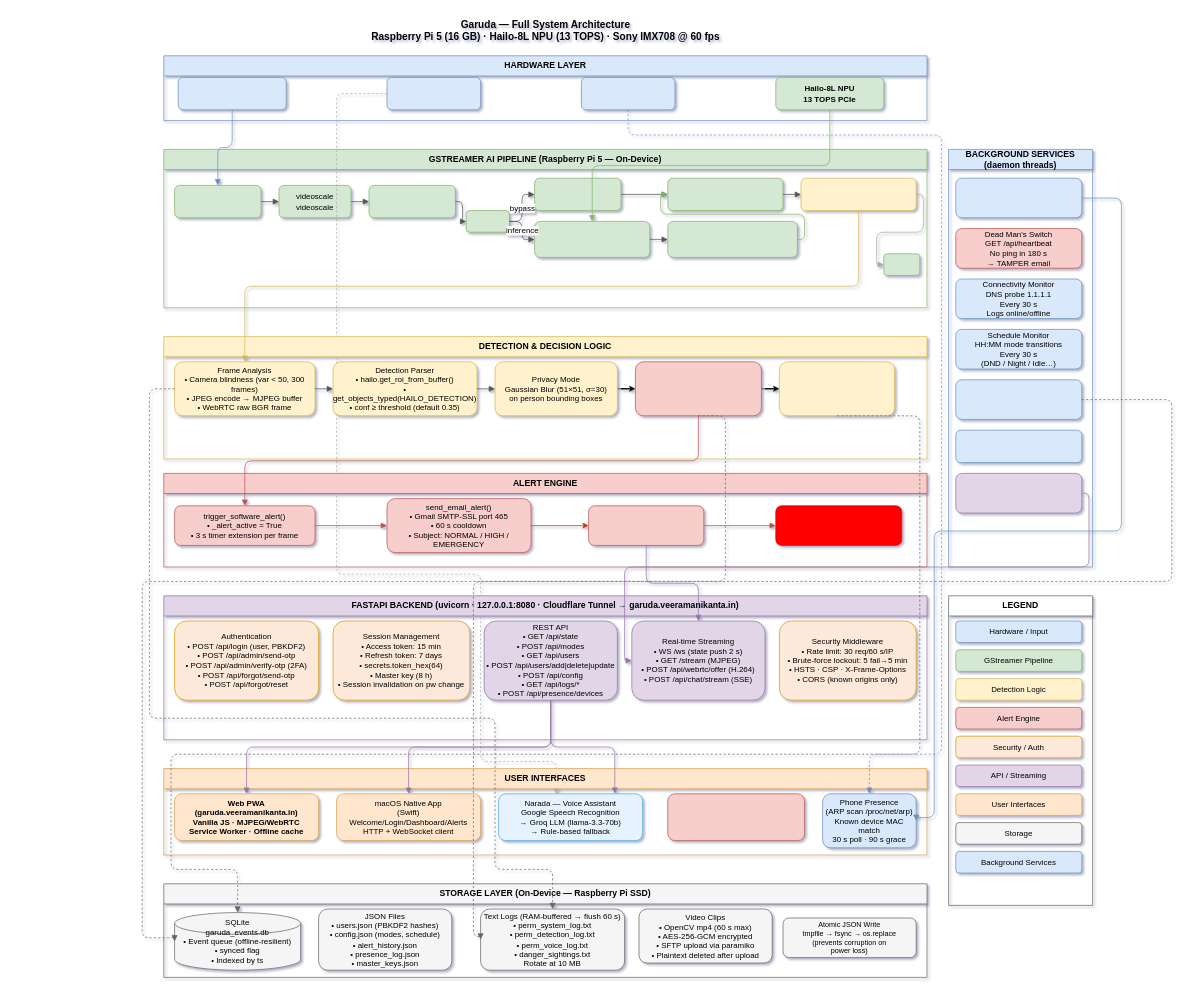
Image size: 1194x994. Some labels were removed from this diagram. The centre of each missing label's shape, as x and y in pixels:
bypass_queue (raw frames): (x=577, y=194)
Danger Check label == DANGER_LABEL AND ≥2 consecutive frames → ALERT TRIGGERED: (x=698, y=388)
Email Alerts Gmail SMTP-SSL Danger / Tamper / Heartbeat (recipient configurable): (x=736, y=817)
fakesink (no display): (x=901, y=264)
hailofilter NMS (score≥0.25, IOU≤0.45) libyolo_hailortpp_post.so: (x=732, y=239)
hailomuxer (sync raw + inference): (x=725, y=194)
hailonet (YOLOv8s / YOLOv6n HEF) Batch=1: (x=592, y=239)
identity_callback (app_callback pad probe): (x=858, y=194)
LAN / WiFi (ARP Network): (x=628, y=93)
libcamerasrc (IMX708 driver): (x=217, y=201)
Log Flush Thread RAM buffer → disk Every 60 s Reduces SSD wear: (x=1018, y=399)
Microphone (Voice Input): (x=433, y=93)
Presence Poller UDP probe → ARP scan /proc/net/arp Every 30 s: (x=1018, y=197)
Session Pruner Remove expired tokens Every WS broadcast cycle: (x=1018, y=446)
Sony IMX708 1280×720 @ 60 fps: (x=231, y=93)
TAMPER ALERTS • Camera blindness • Dead man's switch (bypass DND/Idle): (x=838, y=525)
tee: (x=487, y=221)
videoconvert (RGB 640×640): (x=411, y=201)
Watch Labels person / backpack / suitcase Silent log (30 s cooldown): (x=837, y=388)
WebSocket Push push_urgent_ws() → all connected clients: (x=646, y=525)
WS Broadcaster async task Push every 2 s + event-driven (urgent): (x=1018, y=493)
